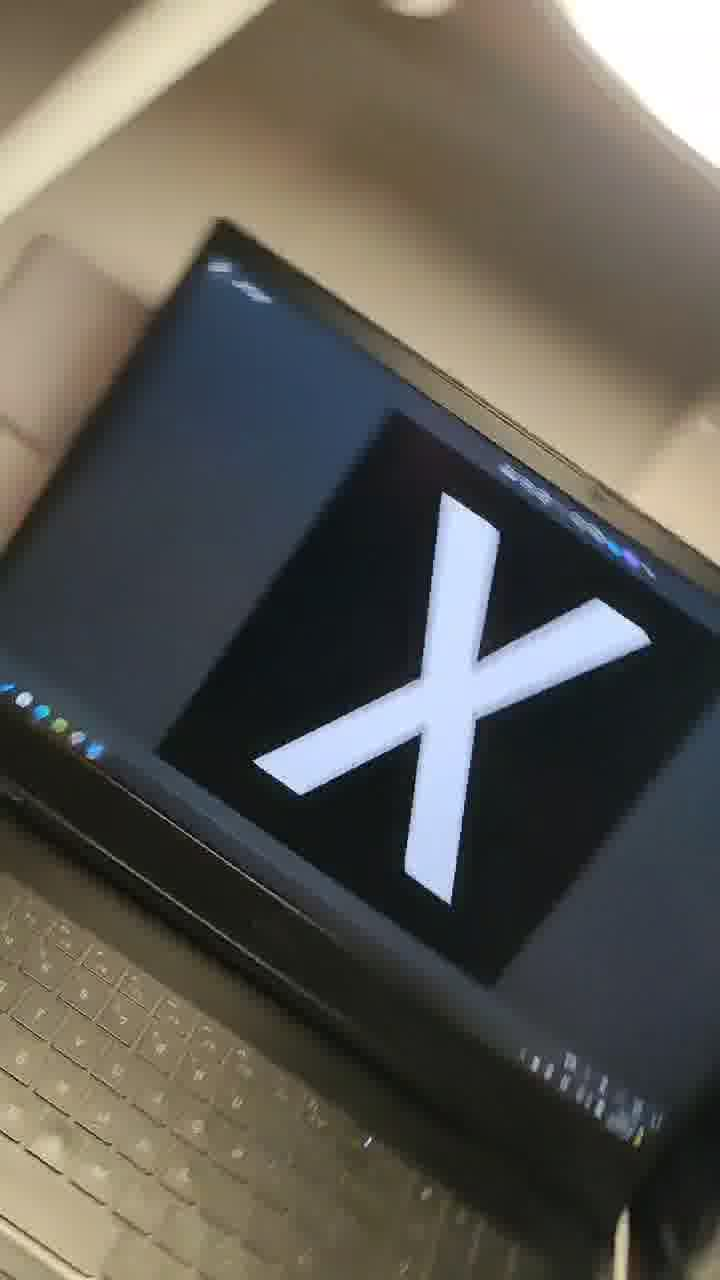X: (246, 475, 678, 950)
